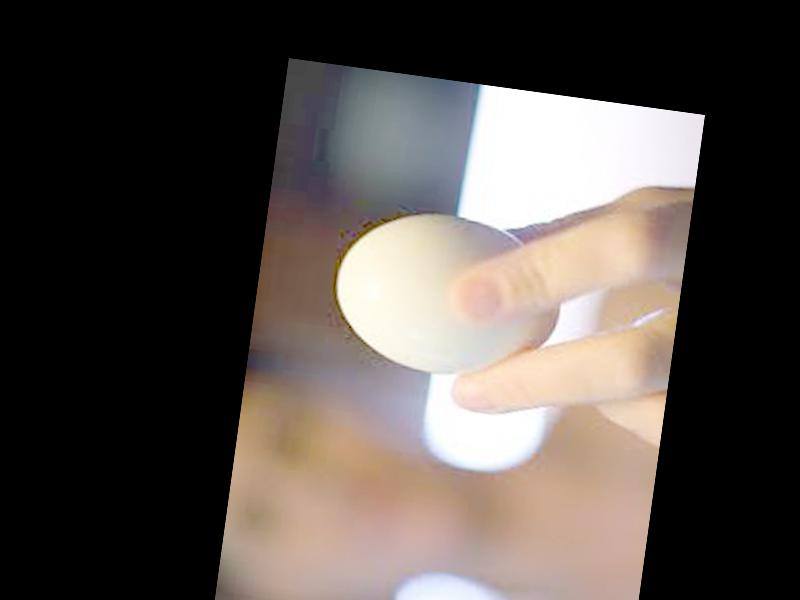Eggs: (326, 204, 570, 392)
